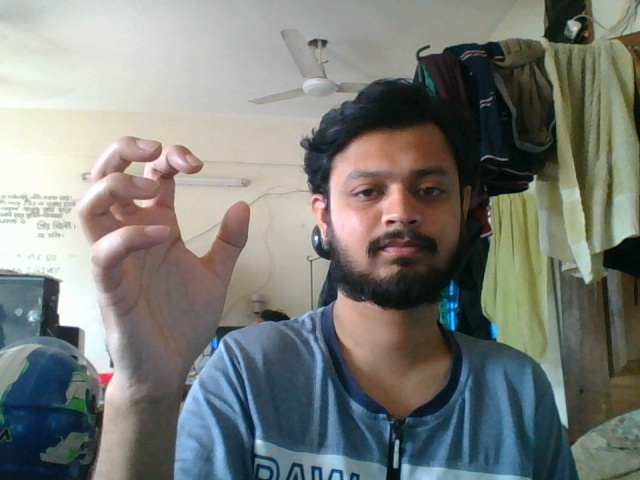ja: (69, 131, 255, 434)
